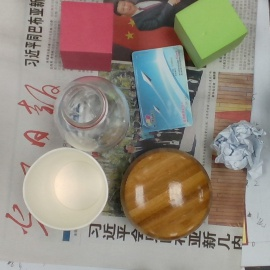bottle: (54, 77, 130, 151)
card: (130, 45, 194, 131)
chess: (125, 149, 212, 238)
cup: (22, 147, 108, 230)
